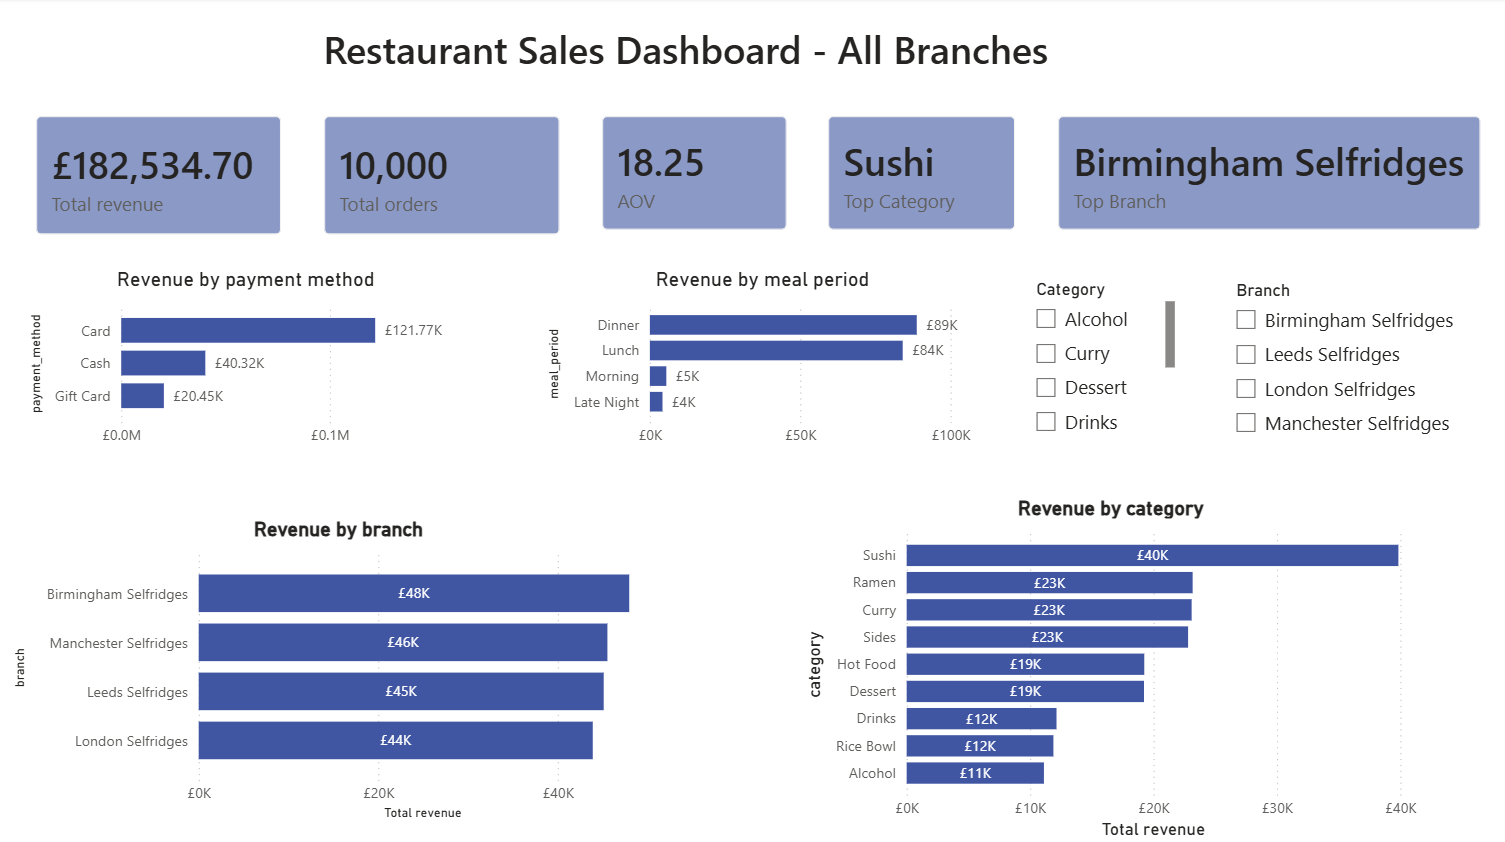

This screenshot's page, from the dashboard's own definition file:
{"tool":"powerbi","page":{"name":"Executive summary","canvas":[1280,720],"ordinal":0},"visuals":[{"type":"cardVisual","fields":{"Data":["Sum(sales_transactions.revenue)"]},"box":[15.2,82.8,241.7,134.4],"z":0},{"type":"cardVisual","fields":{"Data":["CountNonNull(sales_transactions.order_id)"]},"box":[258.4,82.8,233.2,134.4],"z":1000},{"type":"cardVisual","fields":{"Data":["sales_transactions.AOV"]},"box":[493.1,82.8,190.1,131],"z":2000},{"type":"clusteredBarChart","title":"Revenue by branch","fields":{"Category":["sales_transactions.branch"],"Y":["Sum(sales_transactions.revenue)"]},"box":[7.8,438.7,560.2,260.7],"z":3000},{"type":"clusteredBarChart","title":"Revenue by category","fields":{"Category":["sales_transactions.category"],"Y":["Sum(sales_transactions.revenue)"]},"box":[677,421.2,527.2,294.7],"z":4000},{"type":"cardVisual","fields":{"Data":["sales_transactions.Top Branch"]},"box":[878.9,82.8,391.3,131],"z":5000},{"type":"slicer","fields":{"Values":["sales_transactions.branch"]},"box":[1033.3,233.7,223.4,149.2],"z":6000},{"type":"slicer","fields":{"Values":["sales_transactions.category"]},"box":[864.7,233.4,135.2,149.8],"z":7000},{"type":"cardVisual","fields":{"Data":["sales_transactions.Top Category"]},"box":[684.7,82.8,192.7,131],"z":8000},{"type":"clusteredBarChart","title":"Revenue by payment method","fields":{"Category":["sales_transactions.payment_method"],"Y":["Sum(sales_transactions.revenue)"]},"box":[21.4,227.6,376.4,160.5],"z":9000},{"type":"clusteredBarChart","title":"Revenue by meal period","fields":{"Category":["sales_transactions.meal_period"],"Y":["Sum(sales_transactions.revenue)"]},"box":[459.1,227.6,374.5,160.5],"z":10000},{"type":"cardVisual","fields":{"Data":["sales_transactions.Dashboard Title"]},"box":[245.9,0,861.1,82.8],"z":11000}]}

Visuals, with their boxes in screenshot pixels (x1, y1, x2, y2), scaled from the page's 1280x720 canvas onto the 1505x842 screenshot:
cardVisual - Sum(sales_transactions.revenue): [x1=18, y1=97, x2=302, y2=254]
cardVisual - CountNonNull(sales_transactions.order_id): [x1=304, y1=97, x2=578, y2=254]
cardVisual - sales_transactions.AOV: [x1=580, y1=97, x2=803, y2=250]
"Revenue by branch" clusteredBarChart: [x1=9, y1=513, x2=668, y2=818]
"Revenue by category" clusteredBarChart: [x1=796, y1=493, x2=1416, y2=837]
cardVisual - sales_transactions.Top Branch: [x1=1033, y1=97, x2=1493, y2=250]
slicer - sales_transactions.branch: [x1=1215, y1=273, x2=1478, y2=448]
slicer - sales_transactions.category: [x1=1017, y1=273, x2=1176, y2=448]
cardVisual - sales_transactions.Top Category: [x1=805, y1=97, x2=1032, y2=250]
"Revenue by payment method" clusteredBarChart: [x1=25, y1=266, x2=468, y2=454]
"Revenue by meal period" clusteredBarChart: [x1=540, y1=266, x2=980, y2=454]
cardVisual - sales_transactions.Dashboard Title: [x1=289, y1=0, x2=1302, y2=97]
